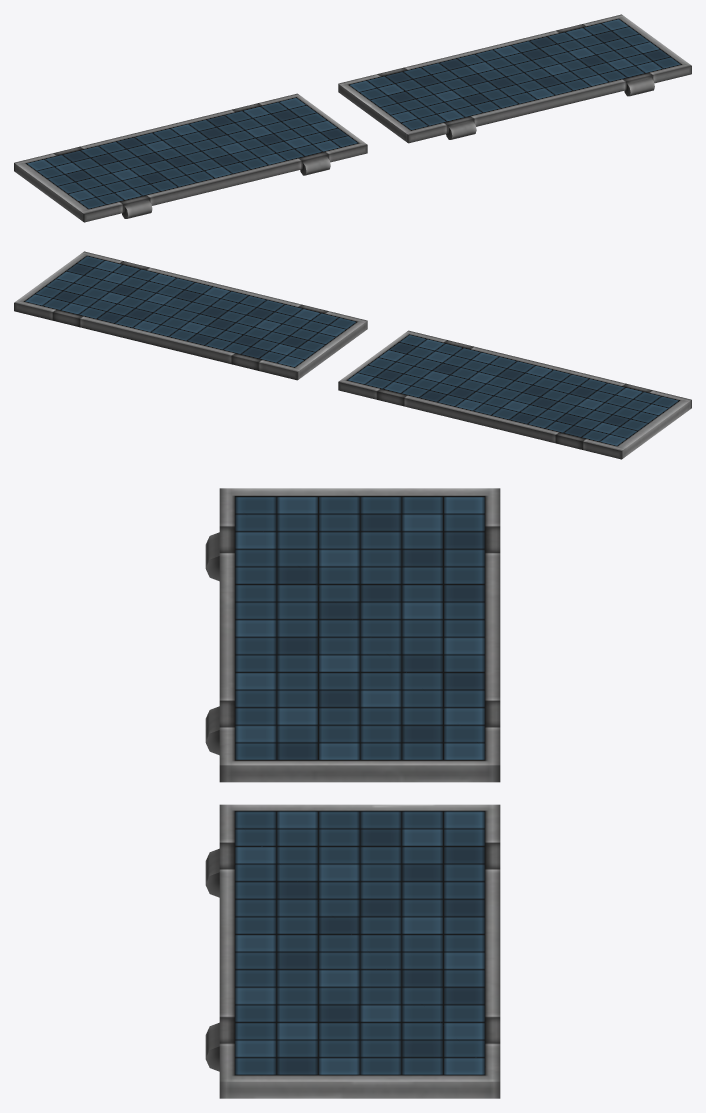
File: dorsal_solar.obj
3 renders of one model, top to bottom at view 1: azimuth 30°, elevation 25°; view 2: azimuth 150°, elevation 25°; view 3: azimuth 270°, elevation 25°, orthographic. The views are drawn at different scales.
Parts seen in each view (by area): view 1: mesh1; view 2: mesh1; view 3: mesh1.
Boxes of the visible parts, x1=… form: mesh1: x1=14, y1=14, x2=691, y2=222; mesh1: x1=14, y1=251, x2=691, y2=459; mesh1: x1=205, y1=488, x2=500, y2=1098.
Bounding box in the file's own units: 1.88 × 0.0438 × 0.3938.
Materials: 1 (1 with a texture image).
